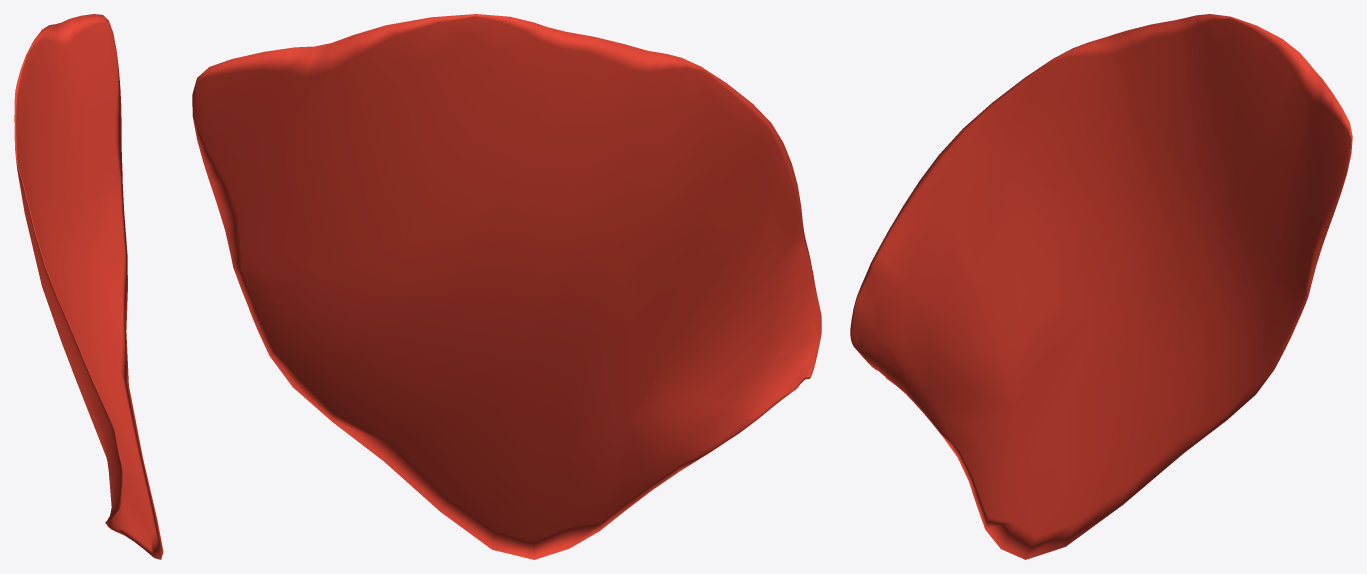
File: Origin_of_psoas_minor_on_Iliac_fossa.r_Generated_Mesh_From_X3D..glb
The picture shows the model from 3 angles, left to right: view 1: azimuth 30°, elevation 25°; view 2: azimuth 150°, elevation 25°; view 3: azimuth 270°, elevation 25°; orthographic projection. The views are drawn at different scales.
Visible parts, largest first — view 1: Origin_of_psoas_minor_on_Iliac_fossa.r_Generated_Mesh_From_X; view 2: Origin_of_psoas_minor_on_Iliac_fossa.r_Generated_Mesh_From_X; view 3: Origin_of_psoas_minor_on_Iliac_fossa.r_Generated_Mesh_From_X.
Boxes of the visible parts, x1=… form: Origin_of_psoas_minor_on_Iliac_fossa.r_Generated_Mesh_From_X: x1=14, y1=14, x2=163, y2=559; Origin_of_psoas_minor_on_Iliac_fossa.r_Generated_Mesh_From_X: x1=192, y1=14, x2=821, y2=559; Origin_of_psoas_minor_on_Iliac_fossa.r_Generated_Mesh_From_X: x1=850, y1=14, x2=1352, y2=559.
Bounding box in the file's own units: 0.0512 × 0.0972 × 0.0856.
